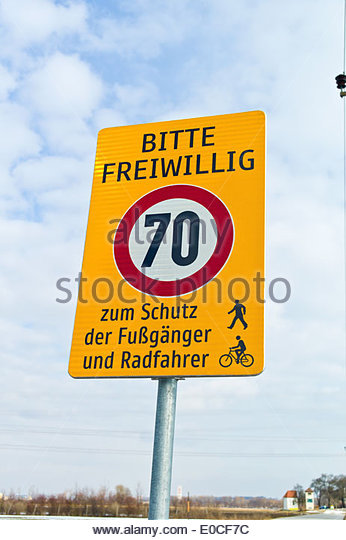Speed_limit_70km: (115, 184, 235, 295)
